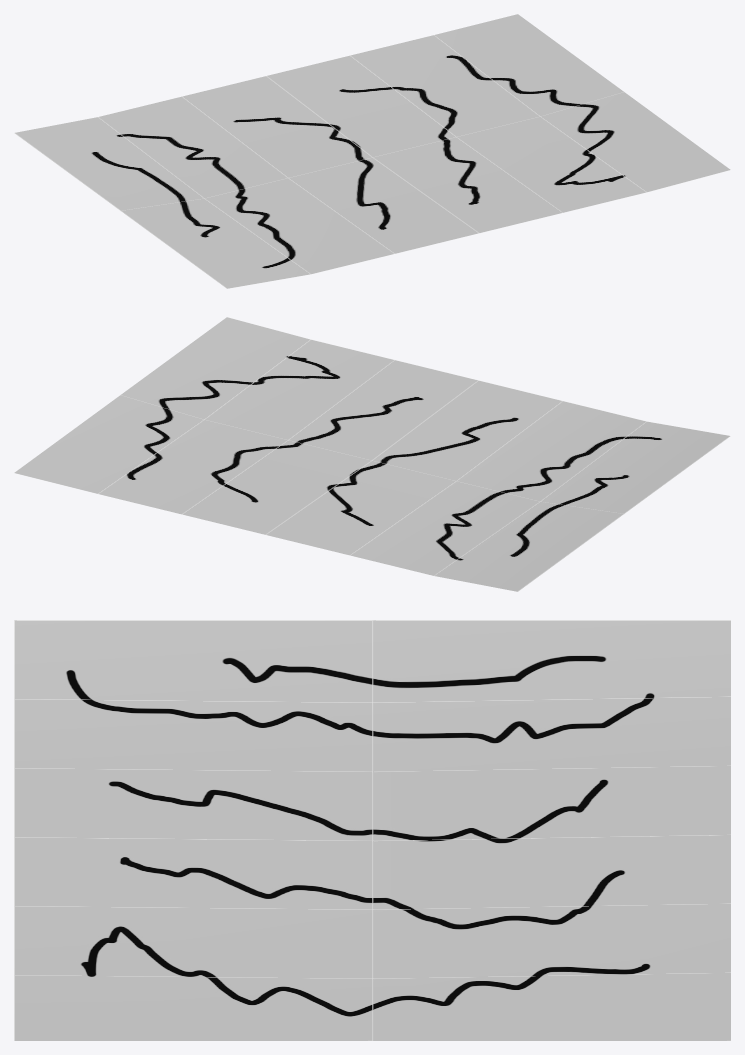
File: Piece of Paper.fbx
The picture shows the model from 3 angles, top to bottom: view 1: azimuth 30°, elevation 25°; view 2: azimuth 150°, elevation 25°; view 3: azimuth 270°, elevation 25°; orthographic projection. The views are drawn at different scales.
Visible parts, largest first — view 1: pPlane1; view 2: pPlane1; view 3: pPlane1.
Part boxes in pixels (<box>): pPlane1: <box>14,14,730,288</box>; pPlane1: <box>14,317,730,591</box>; pPlane1: <box>14,620,730,1040</box>.
Size of the model in its own units: 2.55 by 0.0395 by 1.87.
